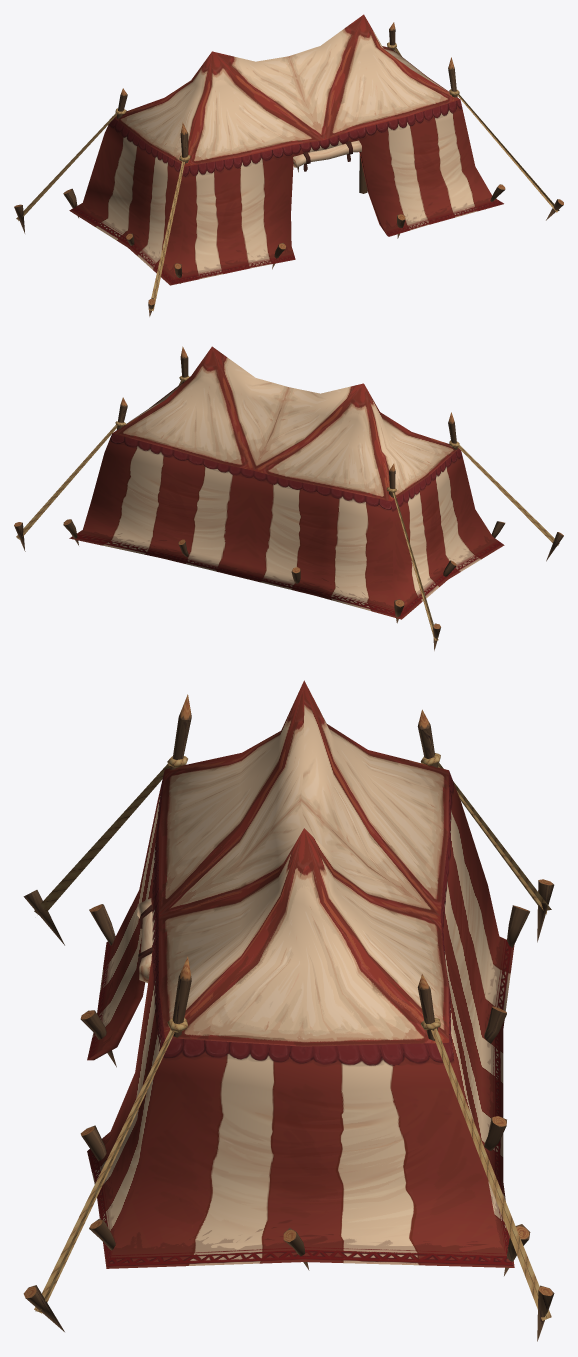
File: SM_PROP_tent_big_battle_04.fbx
3 views of the same model, one above another, from view 1: azimuth 30°, elevation 25°; view 2: azimuth 150°, elevation 25°; view 3: azimuth 270°, elevation 25° (orthographic). The views are drawn at different scales.
Parts seen in each view (by area): view 1: SM_PROP_tent_big_battle_04; view 2: SM_PROP_tent_big_battle_04; view 3: SM_PROP_tent_big_battle_04.
Boxes of the visible parts, x1,y1,x2,y2 form: SM_PROP_tent_big_battle_04: (14,14,563,316); SM_PROP_tent_big_battle_04: (14,346,563,650); SM_PROP_tent_big_battle_04: (23,680,554,1341).
Size of the model in its own units: 1112 by 485 by 600.
